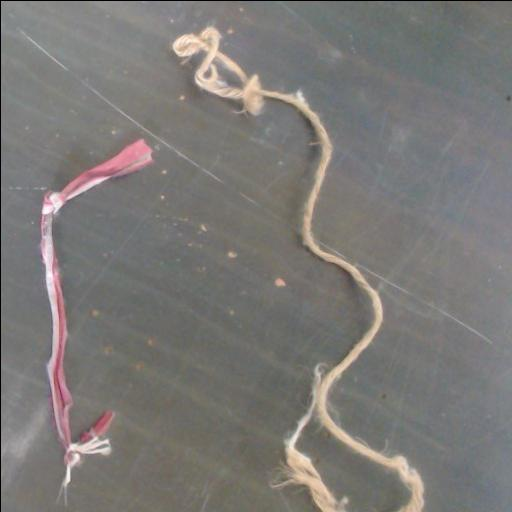cloth: (41, 140, 151, 496)
conveyor belt: (1, 1, 512, 512), (300, 420, 405, 512)
jute: (173, 26, 424, 512)
